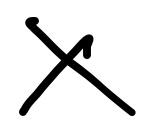mult: (19, 17, 136, 116)
